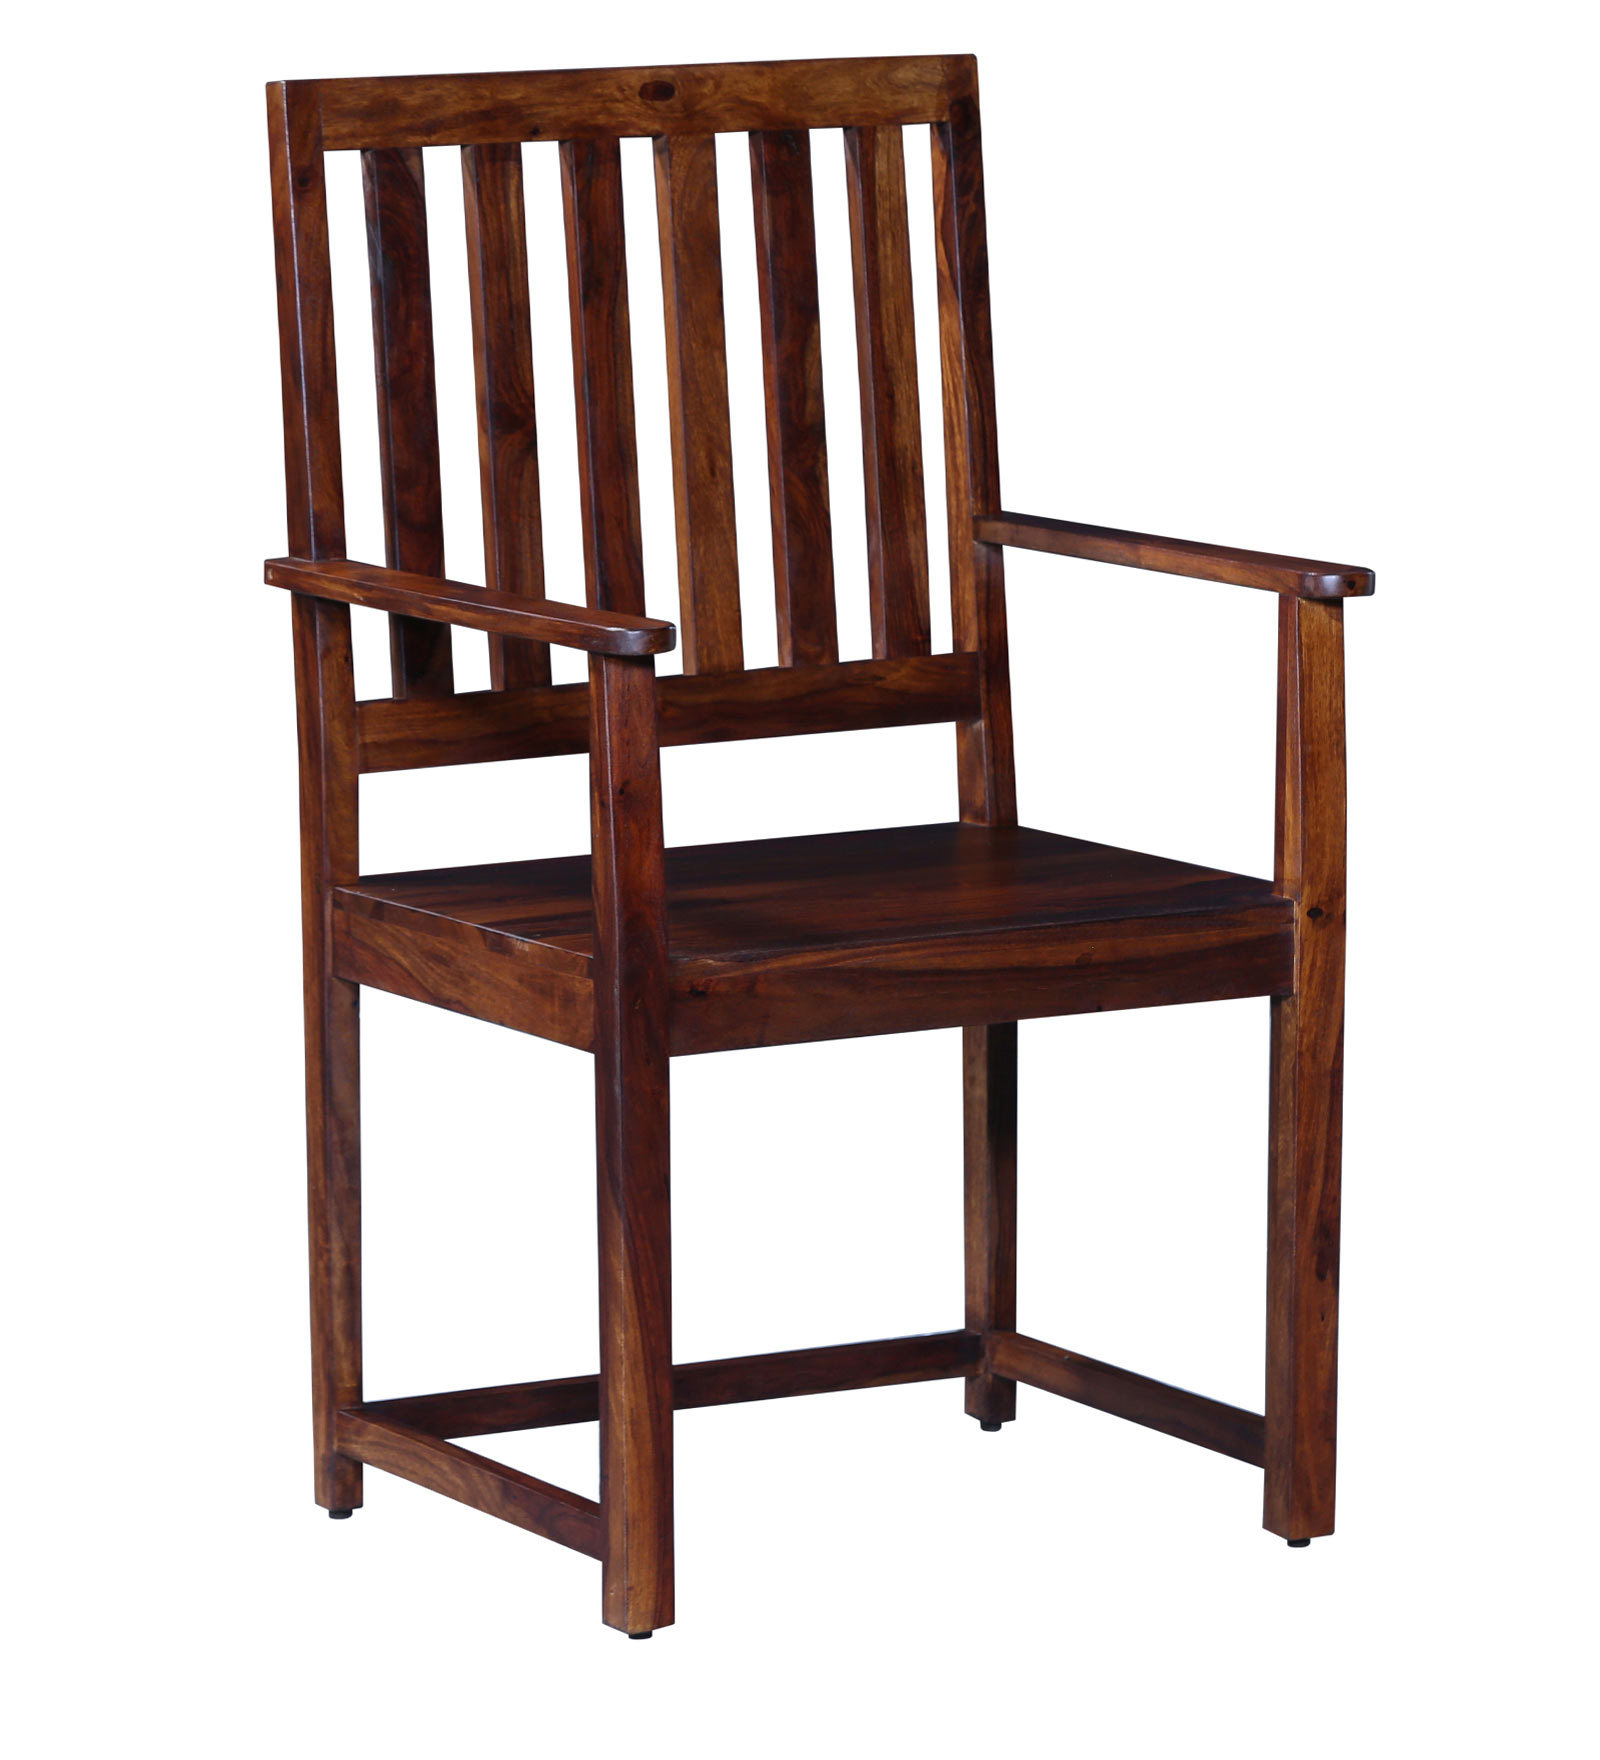Abbey Arm Chair in Honey Oak Finish by Woodsworth: (198, 5, 1362, 1636)
